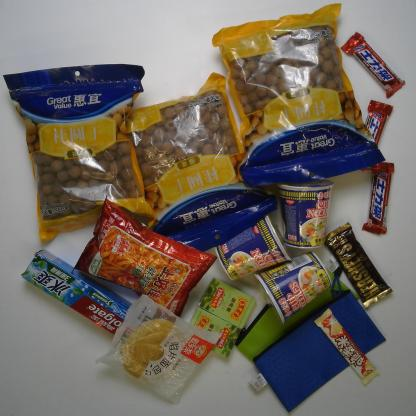Candy: (199, 279, 254, 330), (190, 307, 241, 358)
Chocolate: (323, 220, 393, 309), (313, 309, 381, 386), (341, 31, 406, 98), (361, 161, 397, 234), (360, 100, 395, 173)
Dessert: (91, 294, 219, 403)
Dried Food: (212, 2, 388, 190), (2, 61, 159, 243), (124, 72, 280, 252)
Instant Noodles: (254, 250, 332, 324), (215, 214, 290, 279), (280, 182, 335, 250)
Personal Hygiene: (23, 251, 130, 333)
Puffed Food: (71, 195, 218, 318)
Stationery: (247, 288, 386, 413), (235, 268, 362, 366)
